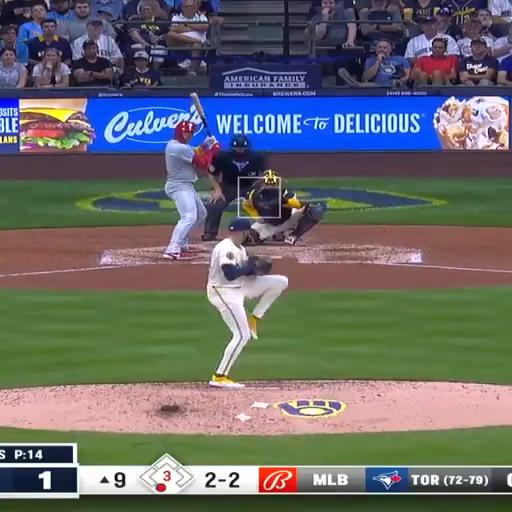bat: (190, 92, 211, 136)
